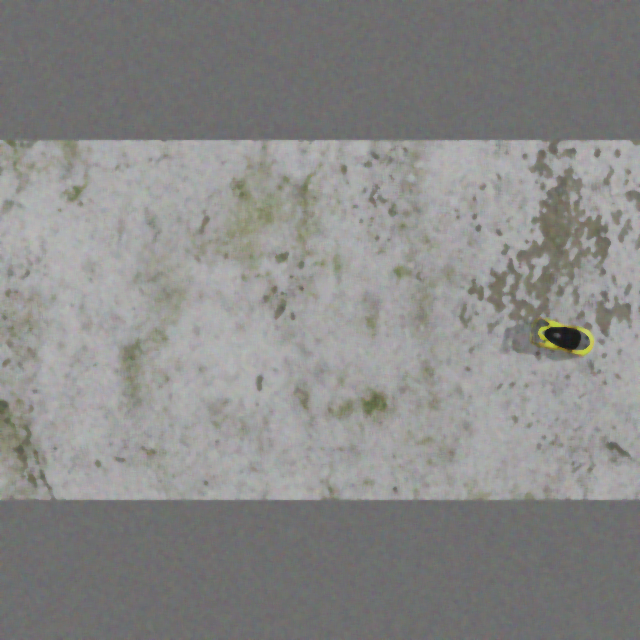car: (524, 315, 603, 360)
